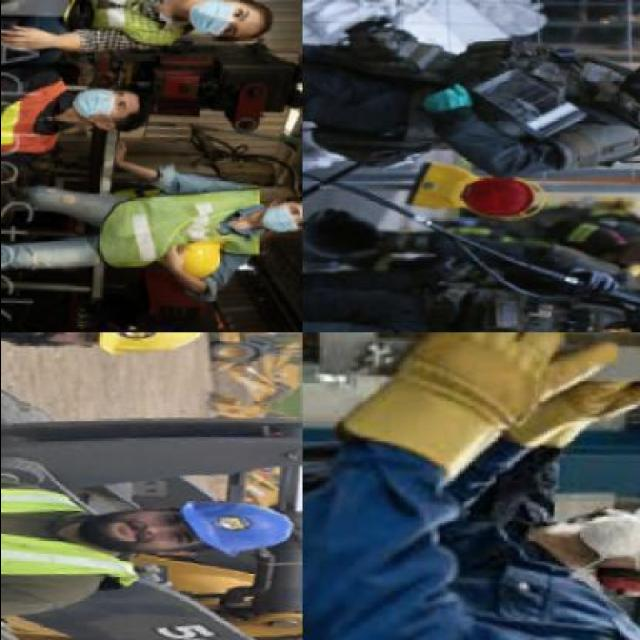helmet: (180, 480, 294, 576)
jacket: (101, 171, 270, 275), (0, 72, 69, 160)
